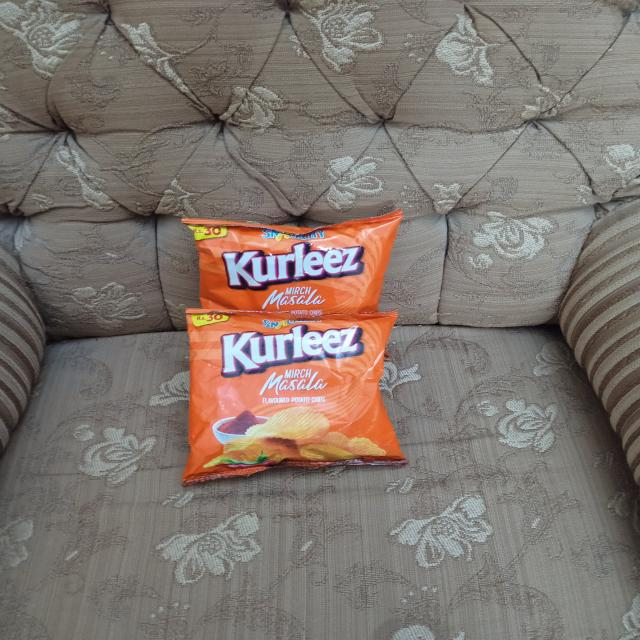Plastic: (187, 320, 394, 476), (195, 222, 392, 312)
